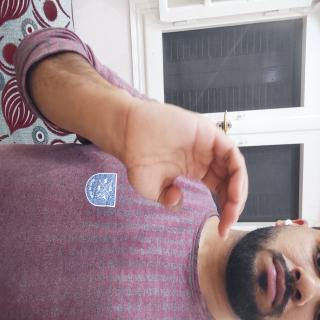JEEM: (67, 85, 193, 285)
